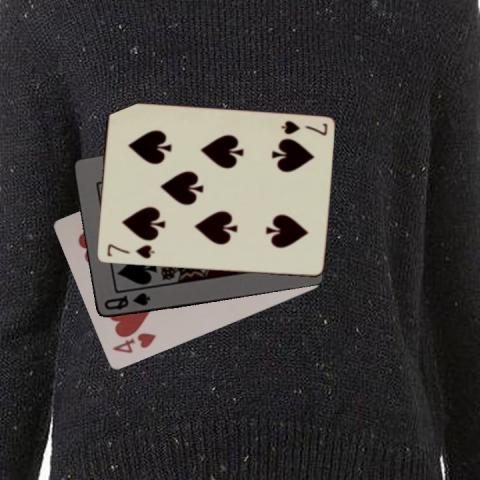4h: (110, 330, 158, 355)
7s: (103, 241, 156, 261), (278, 118, 329, 137)
Qs: (101, 290, 151, 312)
